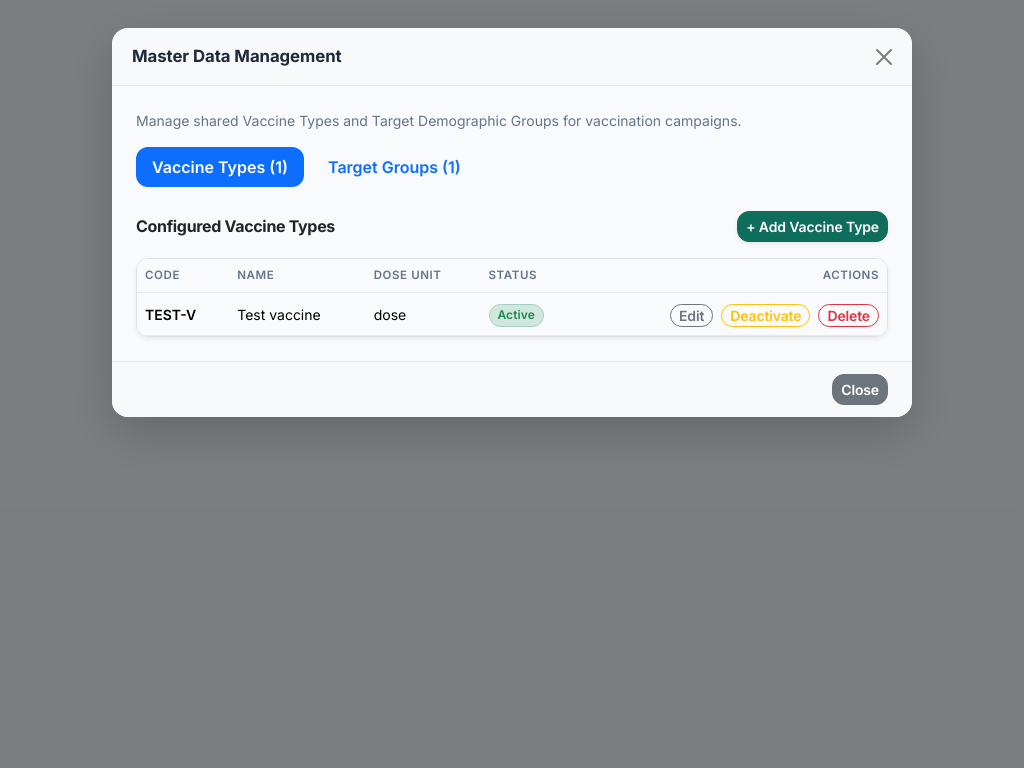
Test: group deletion › retains the row and shows a 409 error
Expected: the text "TEST-V" is shown, [137,293,229,335]
Click the button "Target Groups (1)" at (394, 167), box [312,147,477,187]
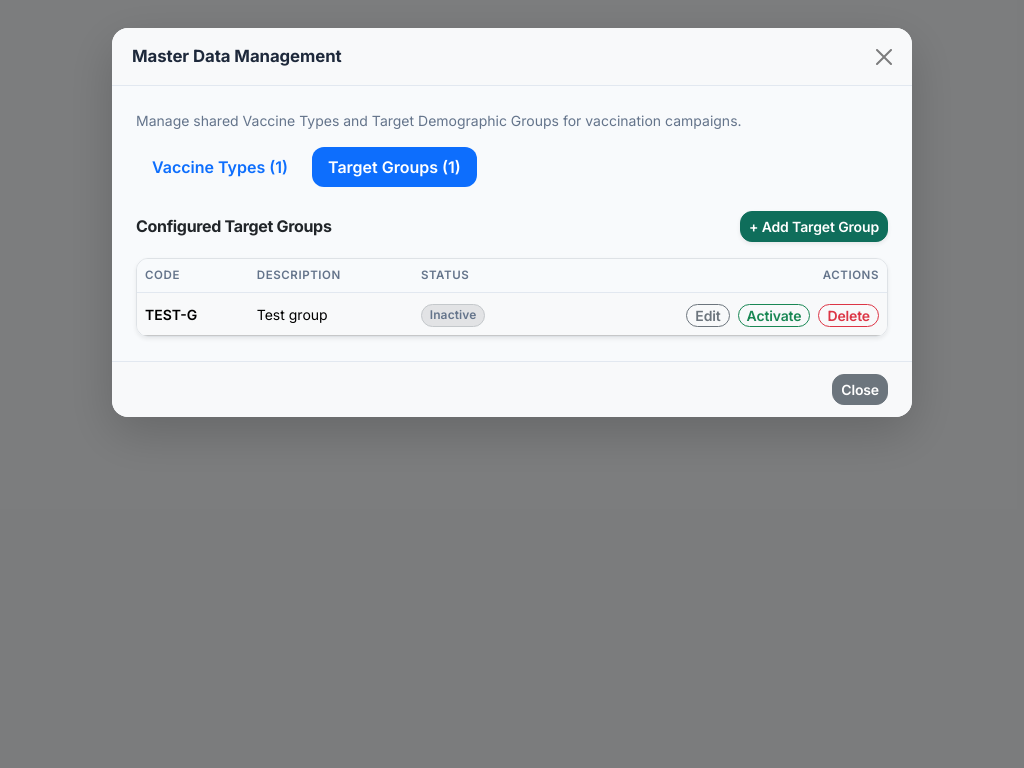
Click the button "Delete" at (849, 315), box [818,304,879,327]
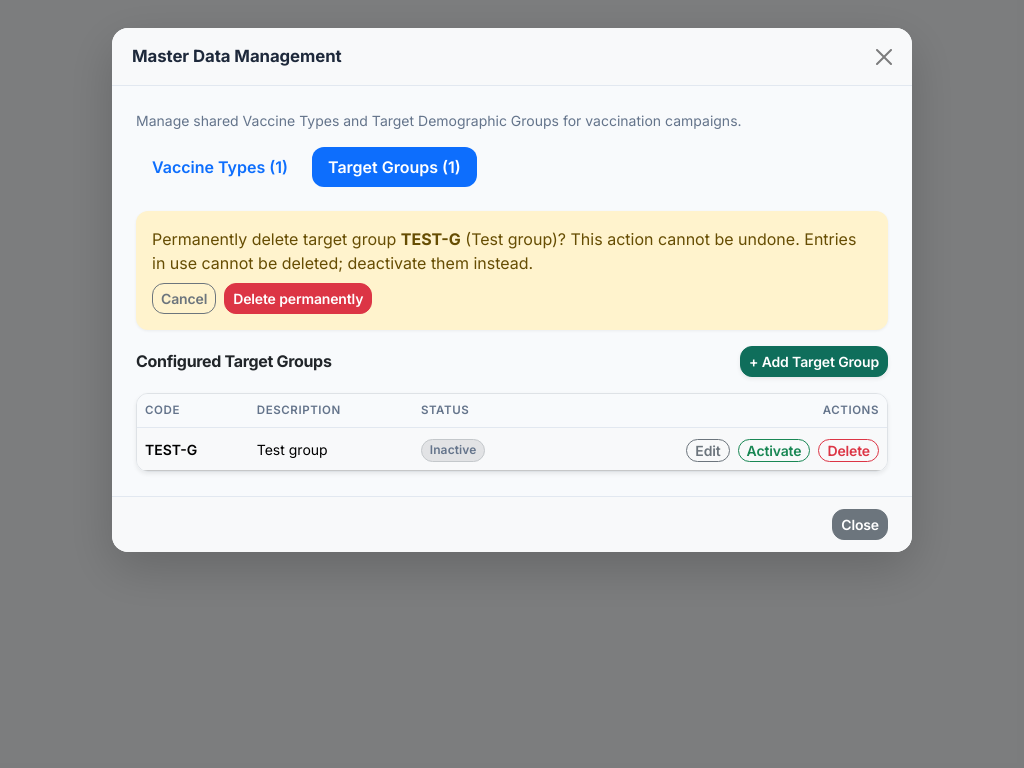
Click the button "Delete permanently" at (298, 299), box [224,283,372,314]
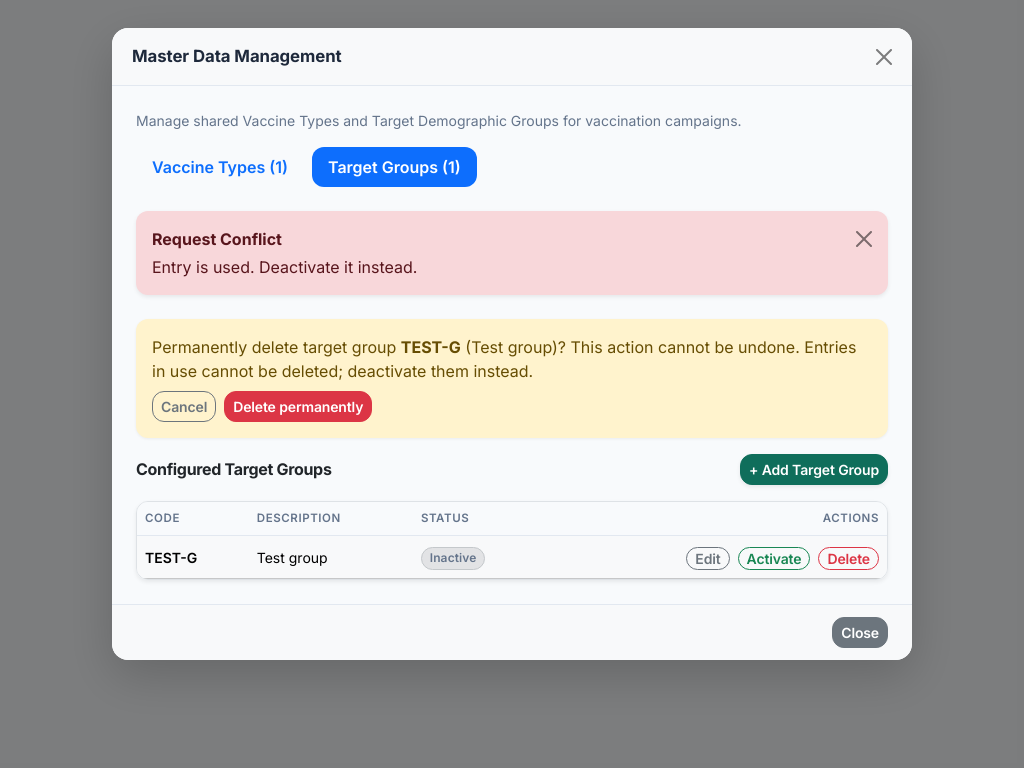
Expected: the button "Target Groups (1)" is shown, [312,147,477,187]
Expected: the text "Entry is used. Deactivate it instead." is shown, [152,255,417,279]
